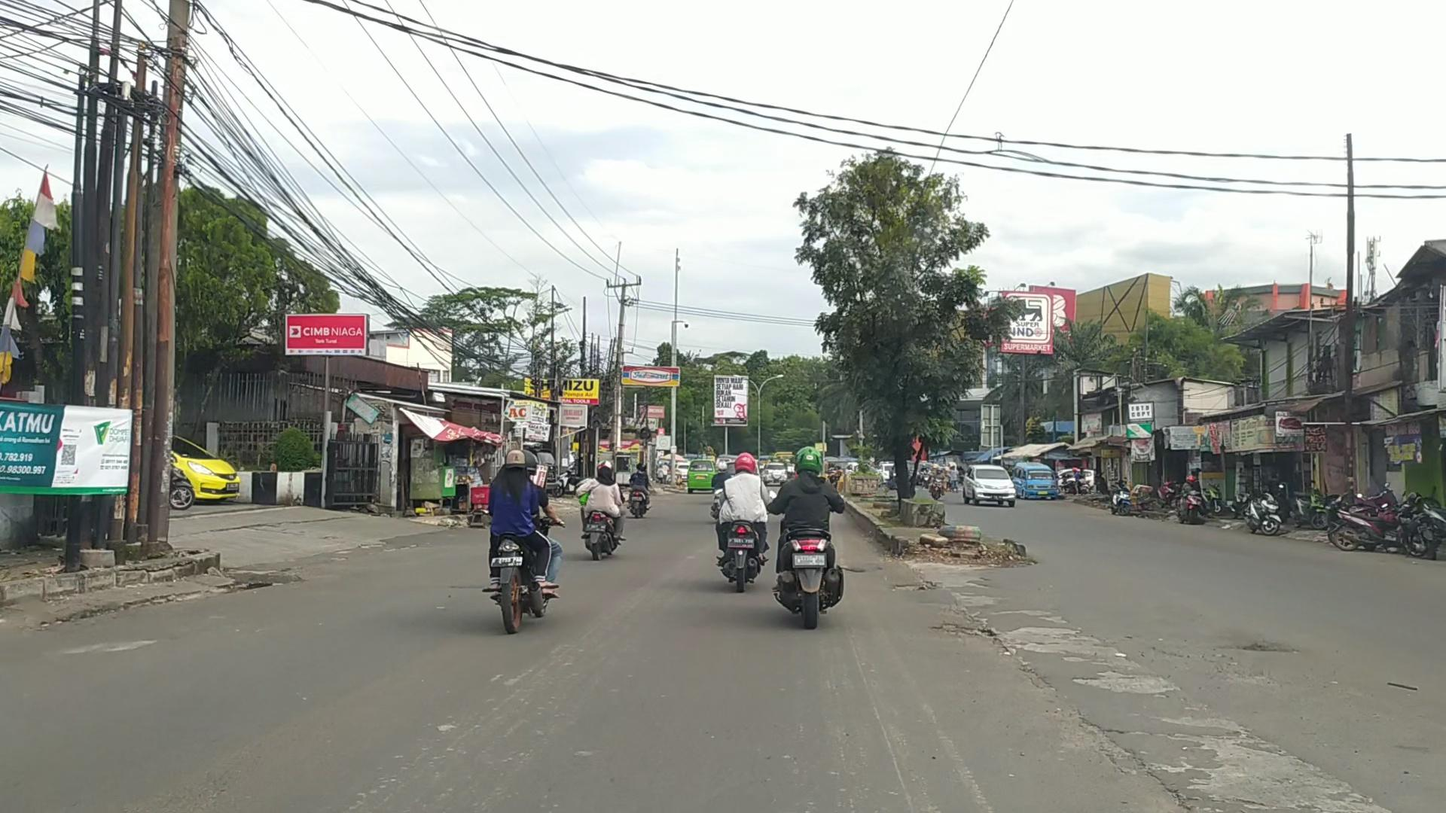pothole: (931, 621, 997, 638), (1233, 639, 1292, 652), (891, 579, 935, 592)
